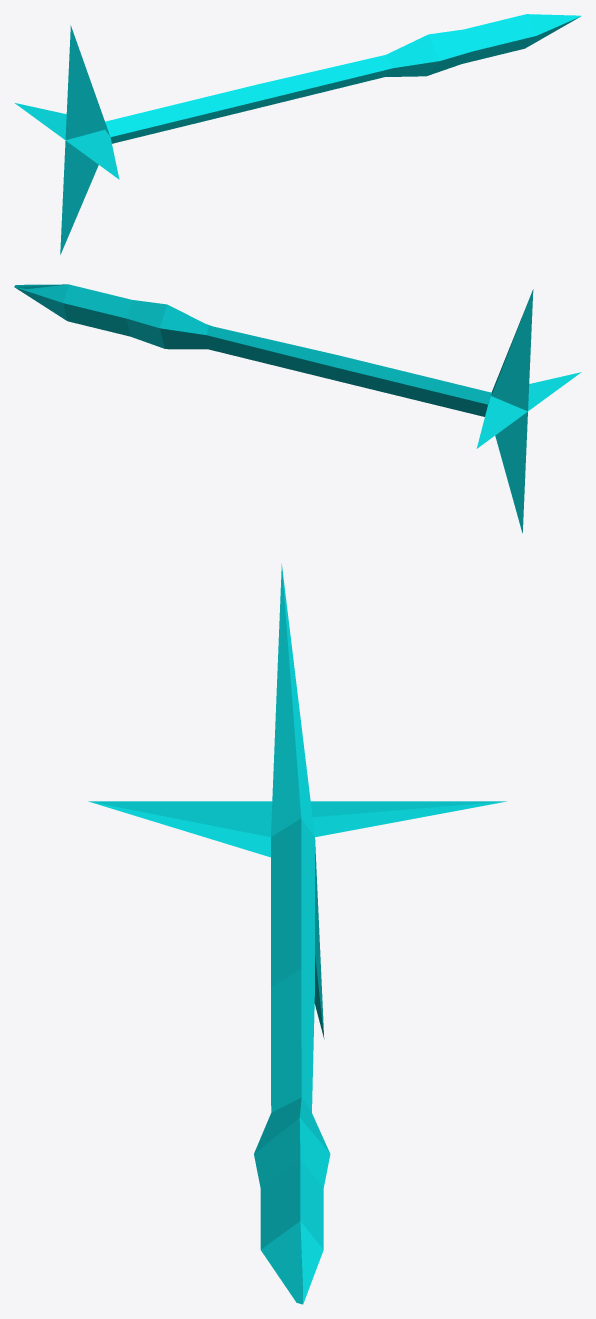
File: Болт.fbx
3 renders of one model, top to bottom at view 1: azimuth 30°, elevation 25°; view 2: azimuth 150°, elevation 25°; view 3: azimuth 270°, elevation 25°, orthographic. The views are drawn at different scales.
Visible parts, largest first — view 1: Плоскость; view 2: Плоскость; view 3: Плоскость.
Boxes of the visible parts, bbox=[...] form: Плоскость: bbox=[15, 14, 581, 254]; Плоскость: bbox=[14, 284, 581, 533]; Плоскость: bbox=[88, 564, 506, 1304].
Size of the model in its own units: 315 by 139 by 112.
